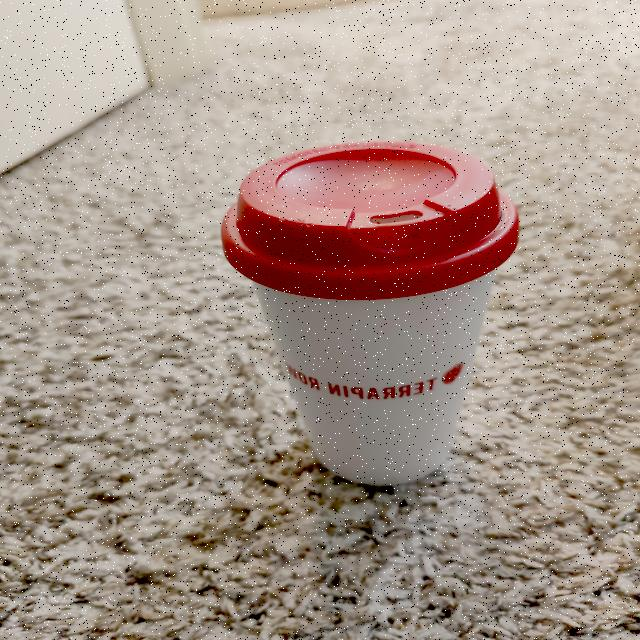mug: (258, 142, 511, 478)
